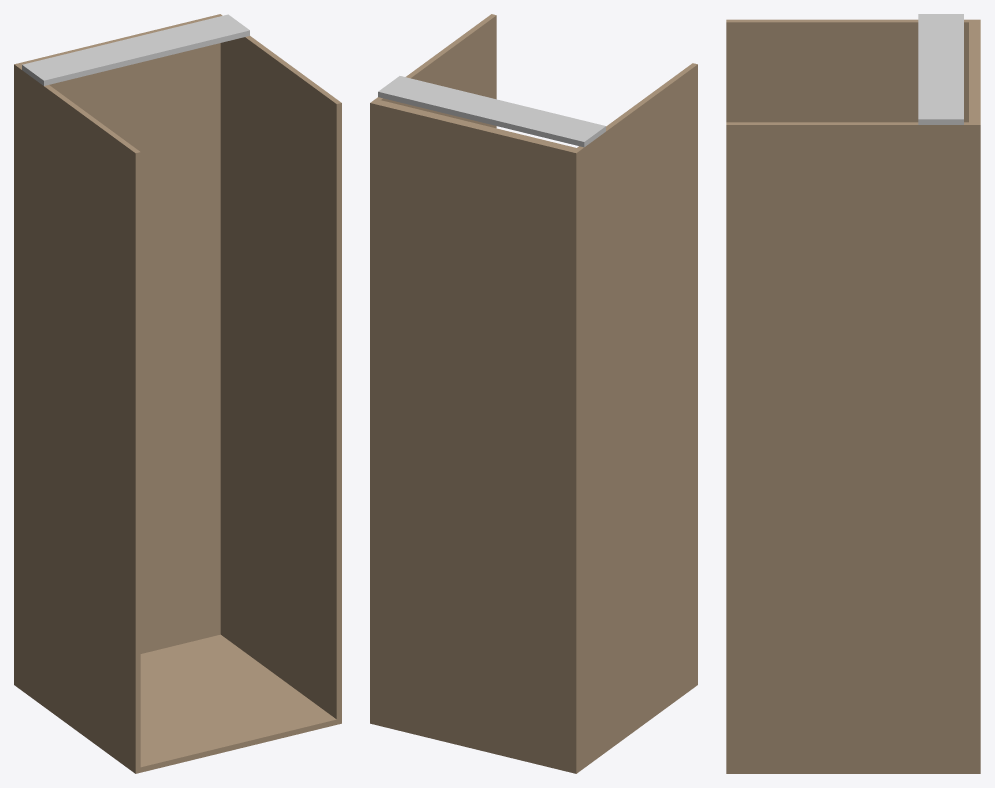
Rendered from stojan-uzky-maly.glb.
3 views of the same model, side by side, from view 1: azimuth 30°, elevation 25°; view 2: azimuth 150°, elevation 25°; view 3: azimuth 270°, elevation 25° (orthographic). The views are drawn at different scales.
Visible parts, largest first — view 1: Mesh_Mesh_head_geo.001_lambert2SG.001; view 2: Mesh_Mesh_head_geo.001_lambert2SG.001; view 3: Mesh_Mesh_head_geo.001_lambert2SG.001.
Boxes of the visible parts, bbox=[...] form: Mesh_Mesh_head_geo.001_lambert2SG.001: bbox=[14, 14, 341, 773]; Mesh_Mesh_head_geo.001_lambert2SG.001: bbox=[370, 14, 697, 773]; Mesh_Mesh_head_geo.001_lambert2SG.001: bbox=[726, 14, 980, 773].
Bounding box in the file's own units: 40 × 116 × 40.81.
